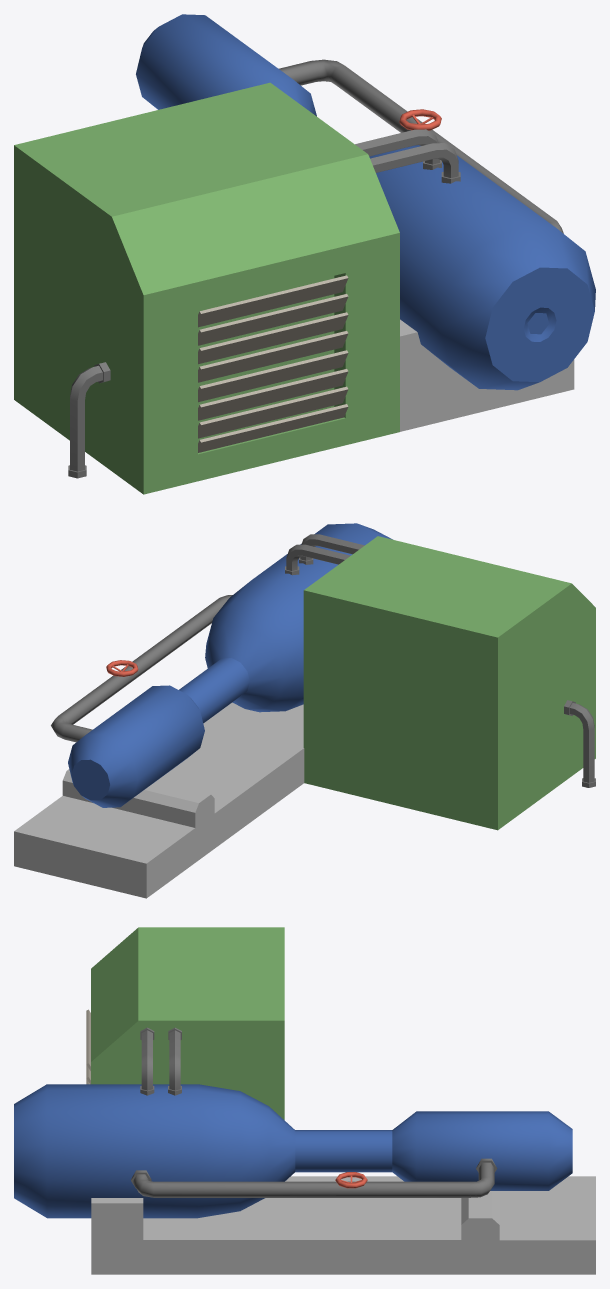
File: SM_Machine_03.fbx
3 views of the same model, one above another, from view 1: azimuth 30°, elevation 25°; view 2: azimuth 150°, elevation 25°; view 3: azimuth 270°, elevation 25° (orthographic). The views are drawn at different scales.
Visible parts, largest first — view 1: SM_Machine_03; view 2: SM_Machine_03; view 3: SM_Machine_03.
Boxes of the visible parts, x1,y1,x2,y2 form: SM_Machine_03: (14,14,595,494); SM_Machine_03: (14,523,595,898); SM_Machine_03: (14,927,595,1274).
Bounding box in the file's own units: 206 × 99.07 × 275.
